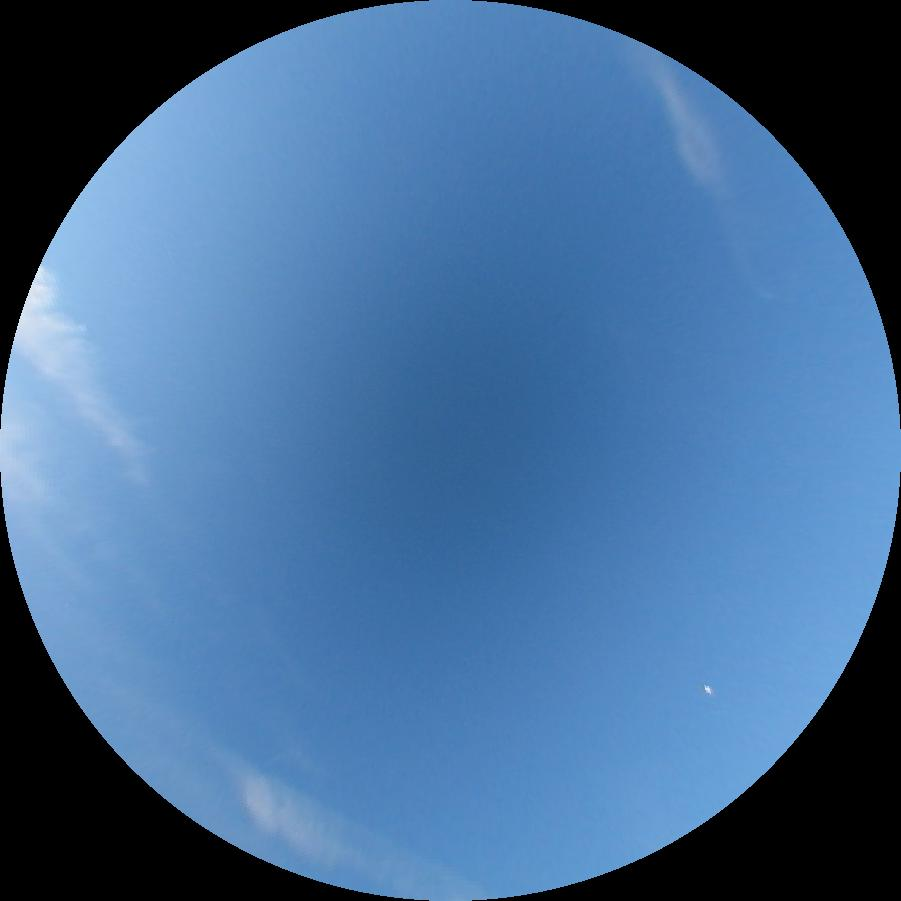contrail veryold: (214, 743, 507, 899)
